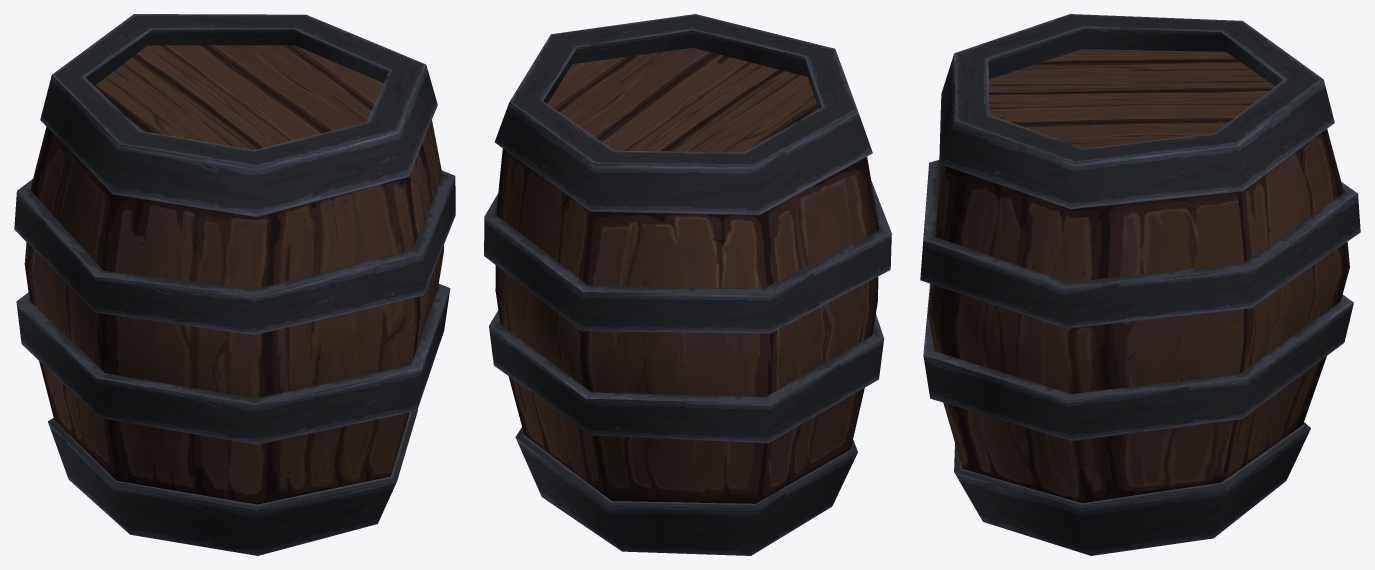
Rendered from SM_PROP_barrel_battle_03.fbx.
The picture shows the model from 3 angles, left to right: view 1: azimuth 30°, elevation 25°; view 2: azimuth 150°, elevation 25°; view 3: azimuth 270°, elevation 25°; orthographic projection.
Visible parts, largest first — view 1: SM_PROP_barrel_battle_03; view 2: SM_PROP_barrel_battle_03; view 3: SM_PROP_barrel_battle_03.
Part boxes in pixels (left/top/right/bottom): SM_PROP_barrel_battle_03: left=14, top=14, right=455, bottom=555; SM_PROP_barrel_battle_03: left=484, top=14, right=891, bottom=555; SM_PROP_barrel_battle_03: left=920, top=14, right=1360, bottom=555.
Size of the model in its own units: 78.62 by 83.62 by 82.2.
